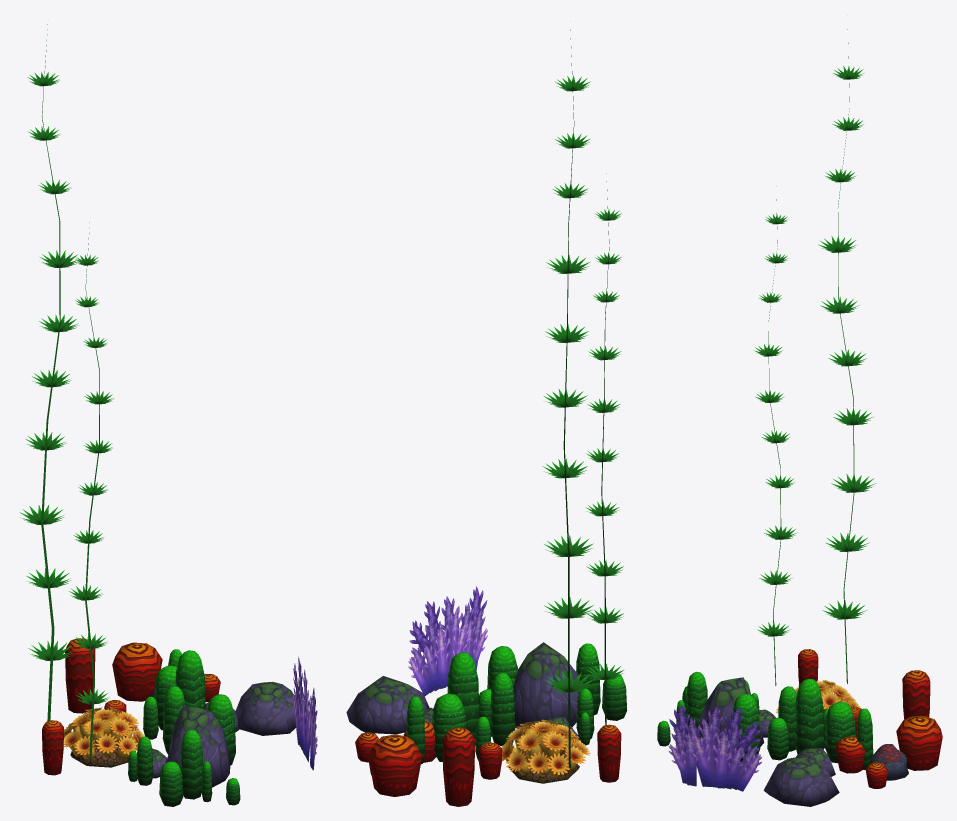
The model's file is CoralSet_05.FBX.
The picture shows the model from 3 angles, left to right: view 1: azimuth 30°, elevation 25°; view 2: azimuth 150°, elevation 25°; view 3: azimuth 270°, elevation 25°; orthographic projection. The views are drawn at different scales.
Visible parts, largest first — view 1: Line347, Plane338, Sphere085, CoralSet_05, Line372, Plane431, Sphere081; view 2: Line347, Plane338, Sphere085, CoralSet_05, Plane431, Line372, Sphere081; view 3: Line347, Plane338, Plane431, Sphere085, CoralSet_05, Plane432, Line372.
Part boxes in pixels (bbox=[...]): Line347: bbox=[128, 649, 240, 806]; Plane338: bbox=[20, 24, 113, 757]; Sphere085: bbox=[42, 638, 220, 775]; CoralSet_05: bbox=[152, 681, 298, 787]; Line372: bbox=[63, 707, 144, 760]; Plane431: bbox=[293, 656, 317, 770]; Sphere081: bbox=[70, 745, 136, 767]; Line347: bbox=[406, 643, 627, 764]; Plane338: bbox=[542, 30, 623, 767]; Sphere085: bbox=[355, 721, 621, 806]; CoralSet_05: bbox=[346, 642, 580, 745]; Plane431: bbox=[408, 586, 487, 696]; Line372: bbox=[501, 719, 590, 778]; Sphere081: bbox=[508, 752, 579, 783]; Line347: bbox=[657, 671, 873, 769]; Plane338: bbox=[754, 29, 876, 685]; Plane431: bbox=[668, 705, 761, 791]; Sphere085: bbox=[798, 649, 942, 788]; CoralSet_05: bbox=[696, 677, 839, 806]; Plane432: bbox=[870, 744, 908, 780]; Line372: bbox=[776, 679, 861, 713].
Bounding box in the file's own units: 9861 × 27173 × 10164.
